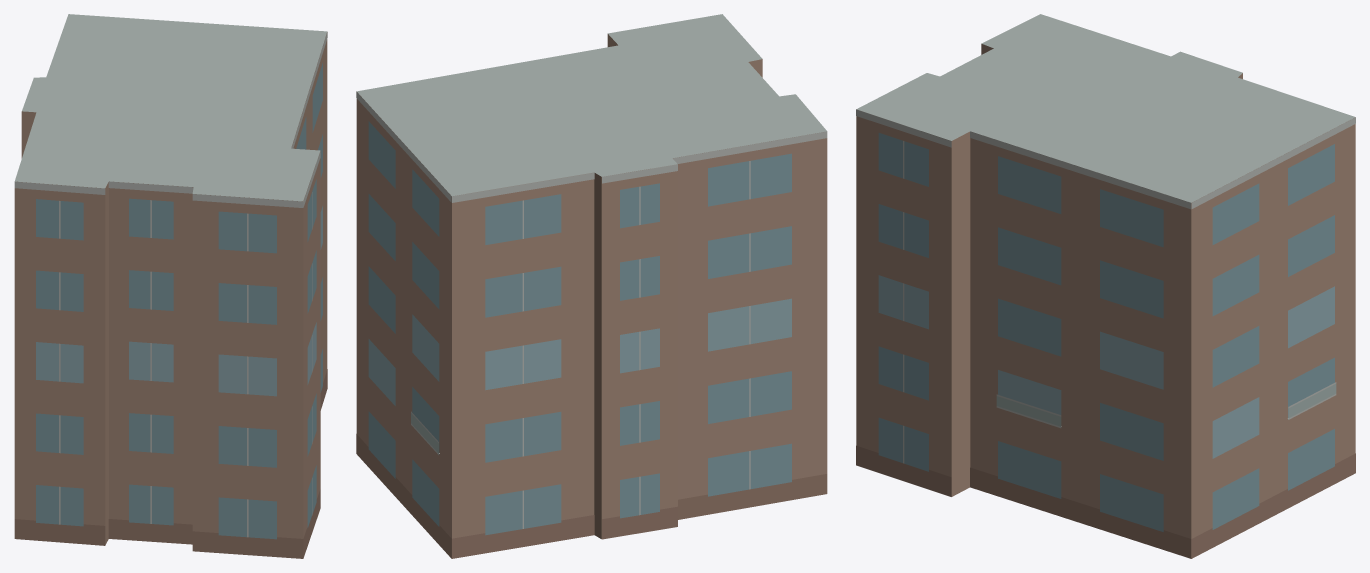
The model's file is survey-upis-32996272.glb.
3 views of the same model, side by side, from view 1: azimuth 30°, elevation 25°; view 2: azimuth 150°, elevation 25°; view 3: azimuth 270°, elevation 25° (orthographic).
Visible parts, largest first — view 1: survey-upis-32996272.tmp; view 2: survey-upis-32996272.tmp; view 3: survey-upis-32996272.tmp.
Part boxes in pixels (bbox=[...]): survey-upis-32996272.tmp: bbox=[14, 14, 327, 558]; survey-upis-32996272.tmp: bbox=[356, 14, 827, 558]; survey-upis-32996272.tmp: bbox=[856, 14, 1355, 558].
Bounding box in the file's own units: 14.91 × 13.1 × 16.67.
